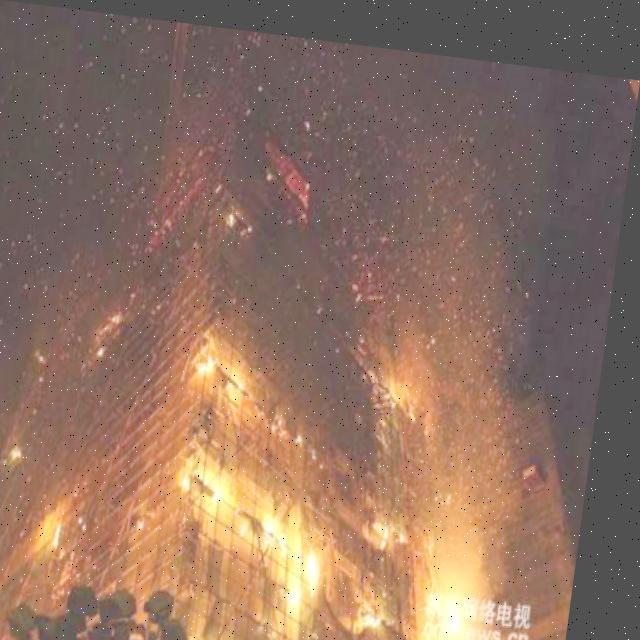Fire: (192, 448, 346, 606), (420, 566, 498, 639), (204, 334, 262, 392)
